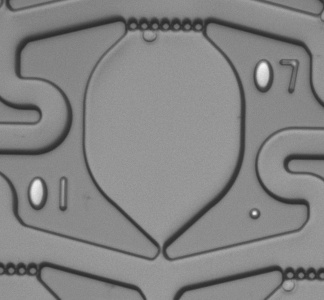AptNum: (245, 52, 303, 98)
Marker: (245, 205, 265, 223)
StNum: (23, 170, 77, 219)
